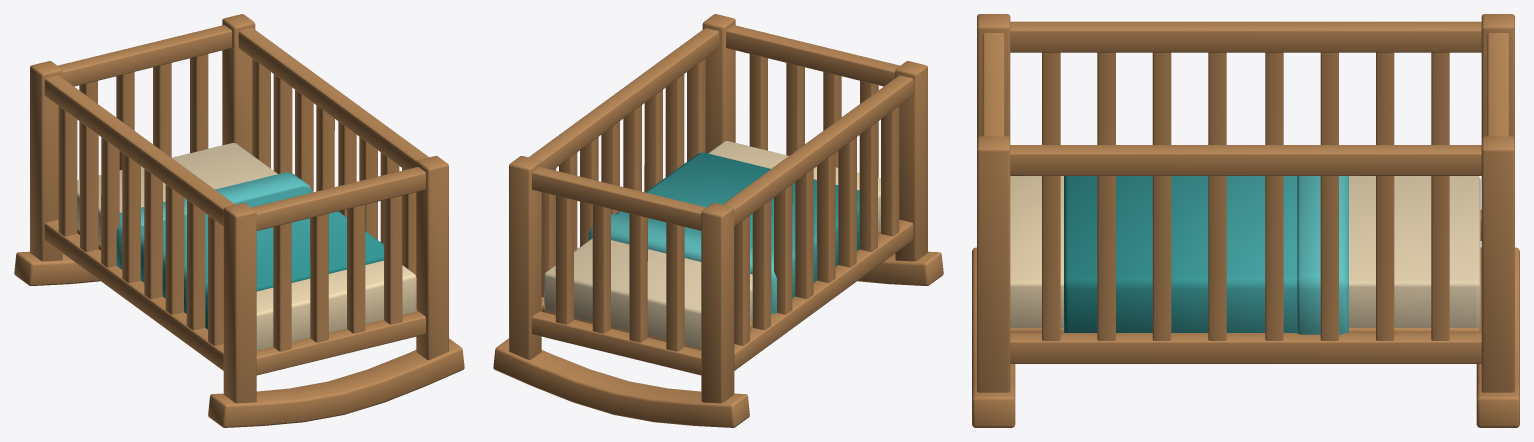
File: Child Bed_2.glb
The picture shows the model from 3 angles, left to right: view 1: azimuth 30°, elevation 25°; view 2: azimuth 150°, elevation 25°; view 3: azimuth 270°, elevation 25°; orthographic projection. The views are drawn at different scales.
Visible parts, largest first — view 1: Child Bed_2; view 2: Child Bed_2; view 3: Child Bed_2.
Part boxes in pixels (x1,y1,x2,y2): Child Bed_2: (14, 14, 464, 427); Child Bed_2: (493, 14, 943, 427); Child Bed_2: (972, 14, 1519, 427).
Bounding box in the file's own units: 1.17 × 1.04 × 1.76.
Materials: 1 (1 with a texture image).
